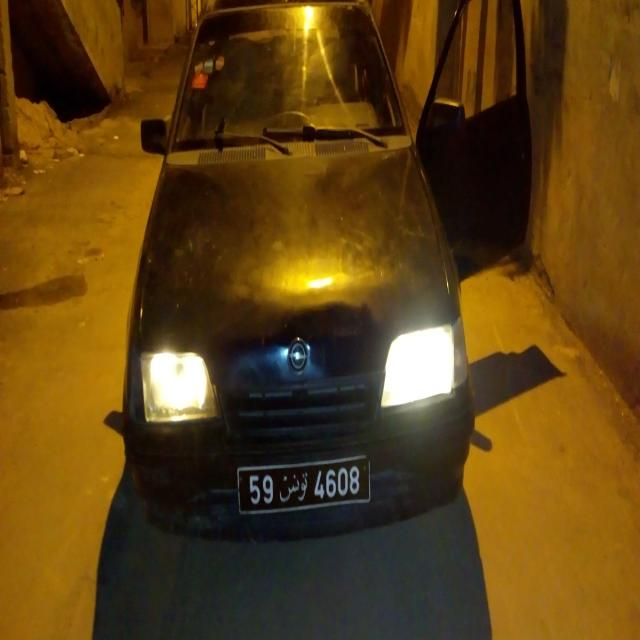LP: (235, 455, 372, 514)
